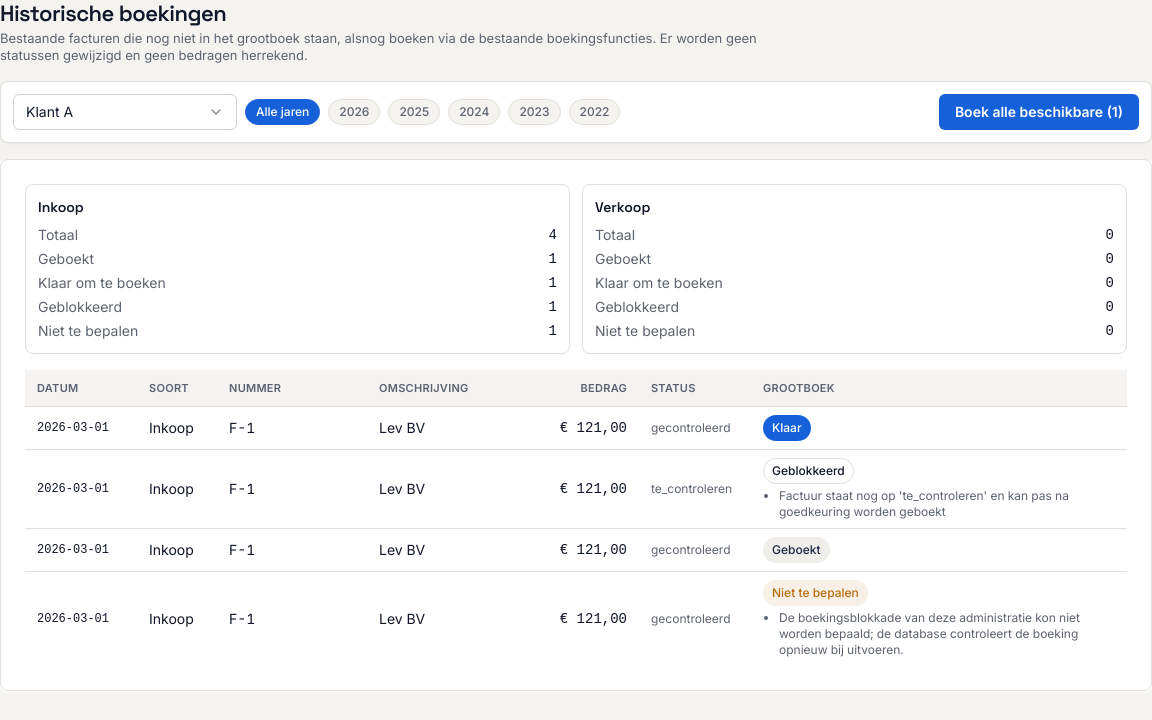
historische boekingen — overzicht › 2b. een record met onleesbare blokkade is 'Niet te bepalen' — apart geteld, neutraal, niet 'Geblokkeerd'
Expected: the text with test id "historisch-inkoop-geblokkeerd" reads "1", x1=549 y1=299 x2=557 y2=315
Expected: the text with test id "historisch-inkoop-onbekend" reads "1", x1=549 y1=323 x2=557 y2=339
# Het wordt niet aangeboden, en de bevestiging zegt dat apart.
Click the button with test id "historisch-bulk": (1039, 112) x1=939 y1=94 x2=1139 y2=130
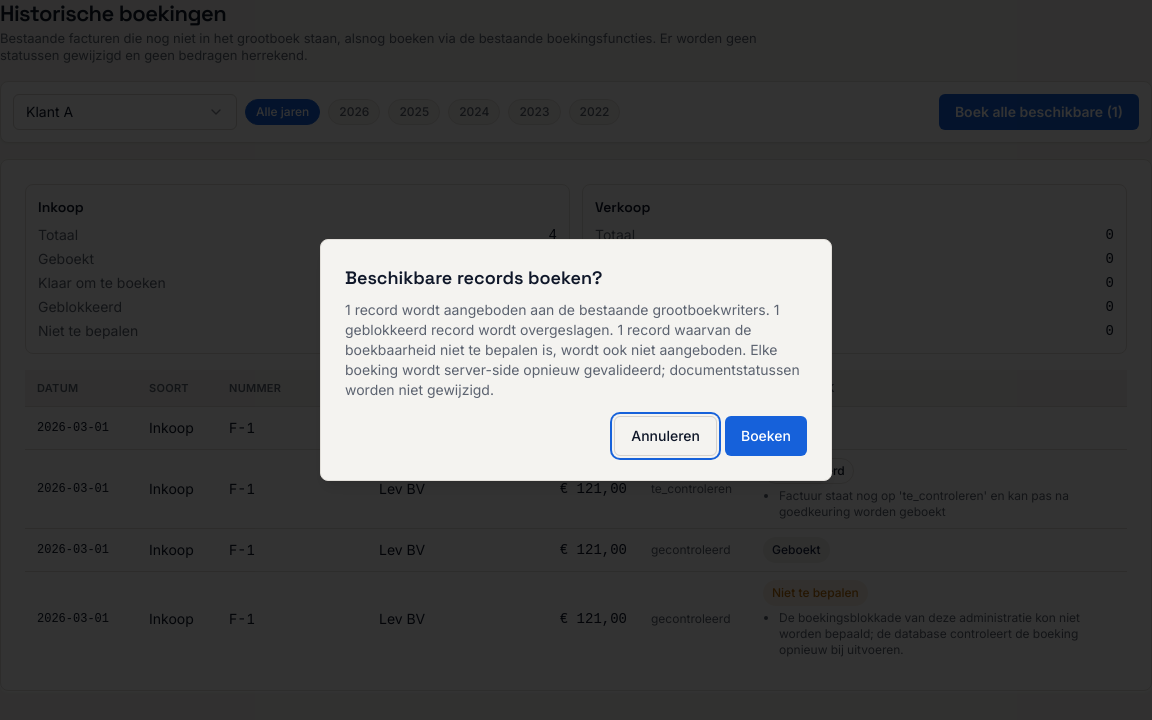
Now the dialog shows "1 record wordt aangeboden", box x1=345 y1=301 x2=770 y2=318
Now the dialog shows "1 geblokkeerd record wordt overgeslagen", box x1=345 y1=301 x2=779 y2=338
Now the text with test id "historisch-onbekend-overgeslagen" shows "niet te bepalen is, wordt ook niet aangeboden", box x1=345 y1=321 x2=752 y2=358
